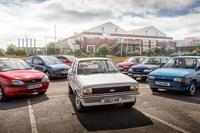car: (65, 58, 140, 111)
